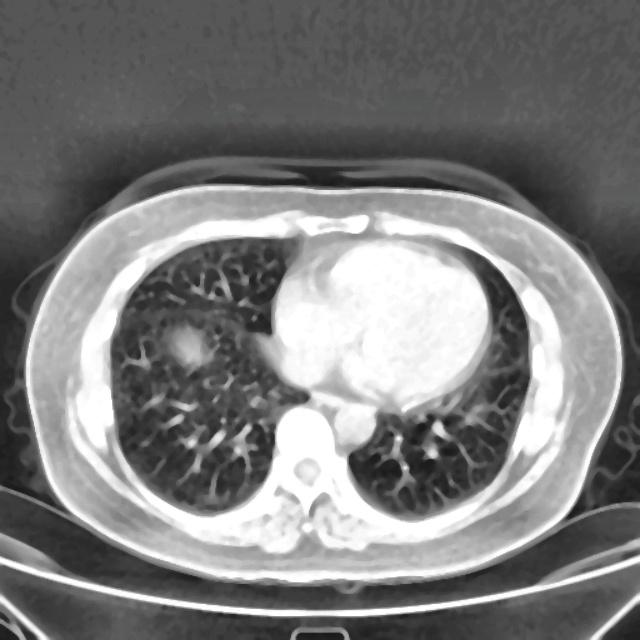covid: (18, 158, 626, 587)
